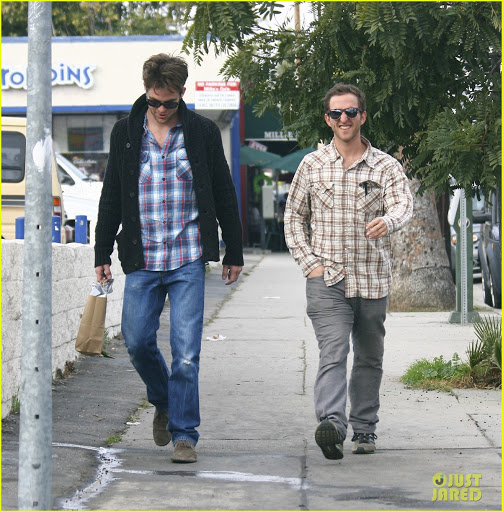Person: (94, 52, 244, 464), (284, 82, 413, 459)
